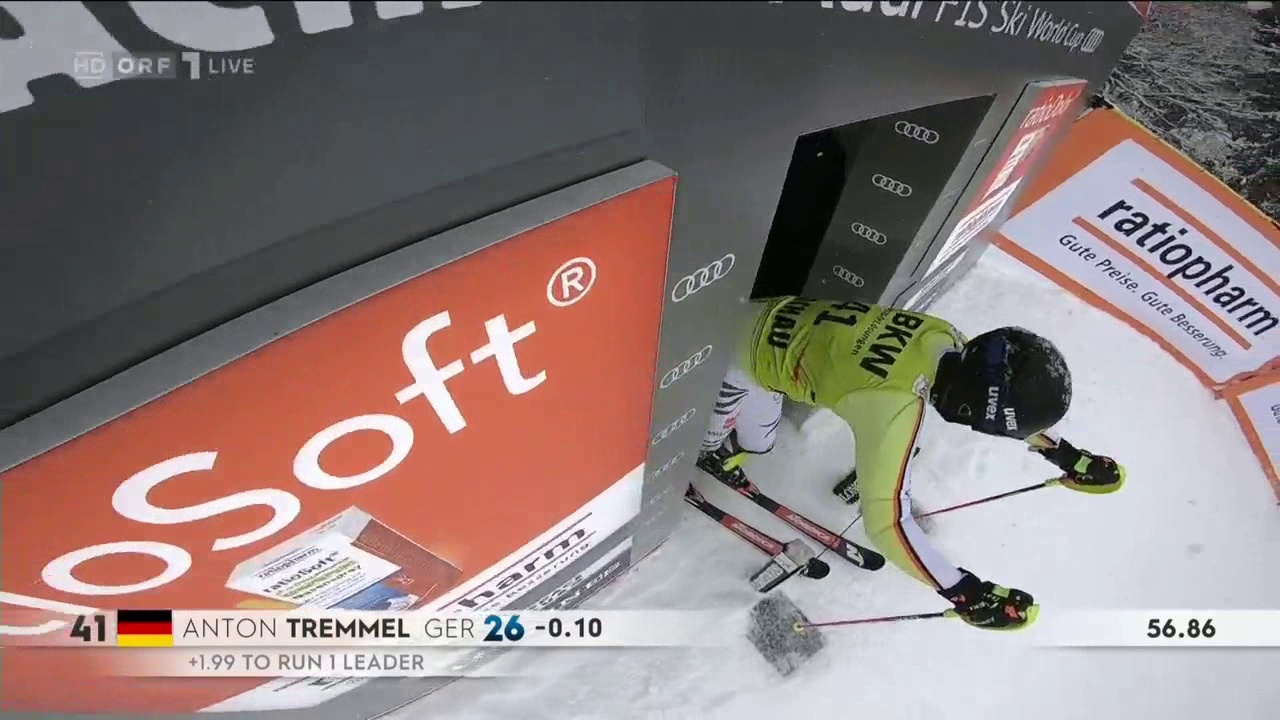audi: (671, 253, 741, 308), (661, 346, 718, 392), (893, 120, 946, 150), (868, 174, 917, 202), (847, 221, 890, 249), (828, 267, 872, 292)
etron: (656, 409, 701, 445), (655, 452, 691, 474)
